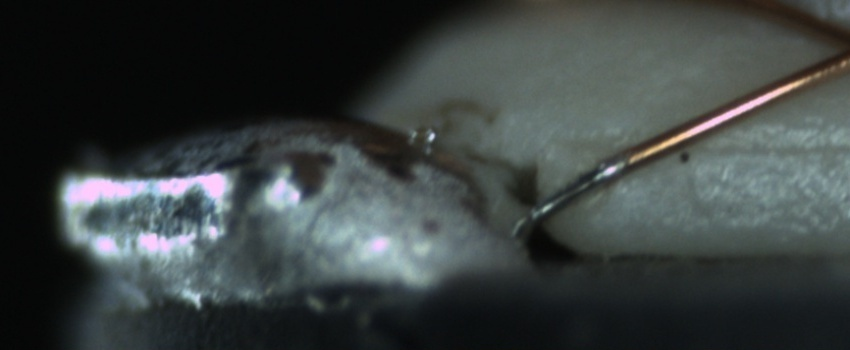CL: (805, 9, 850, 81)
DL: (609, 113, 849, 181)
TS: (529, 156, 630, 223)
TTCW: (523, 143, 643, 224)
